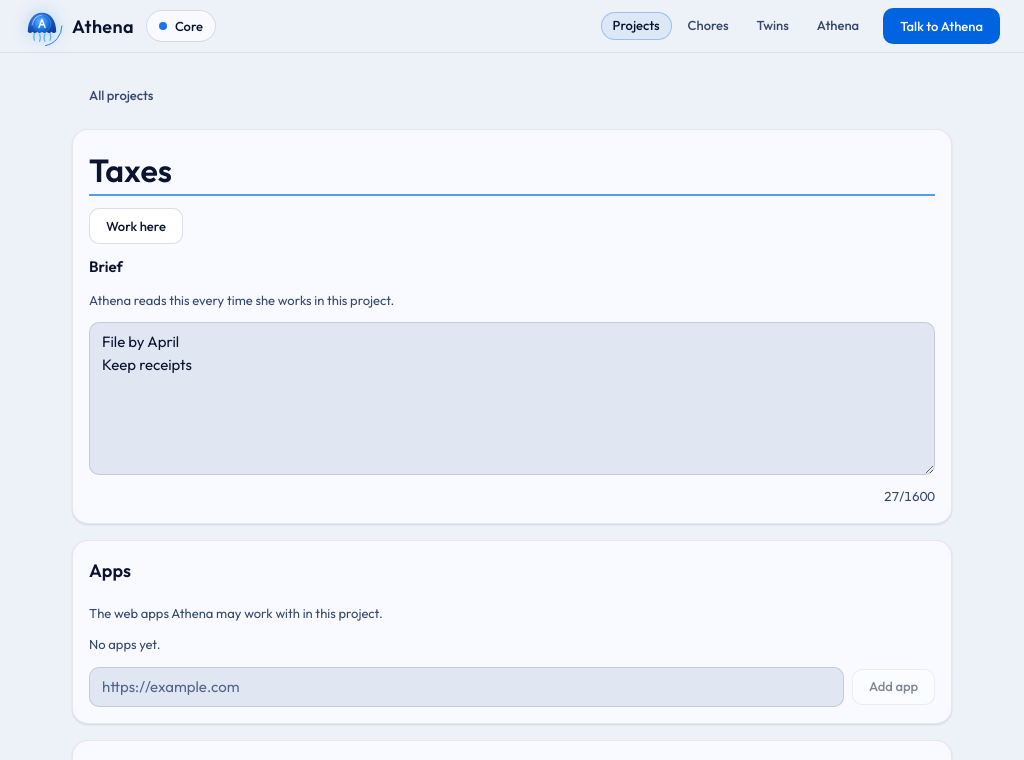
it: project level › adds and removes apps, and shows a refusal verbatim
Type "example.com" into the field named "App address" at (466, 687), box [89,666,844,707]
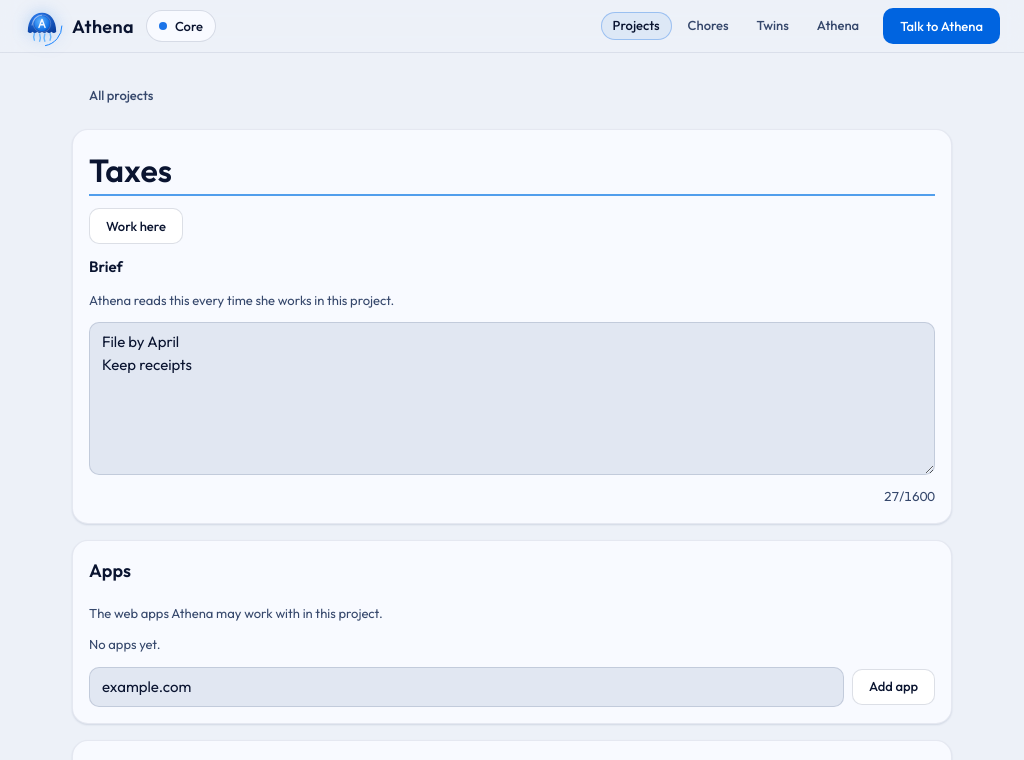
Click the button "Add app" at (893, 687), box [852,669,935,705]
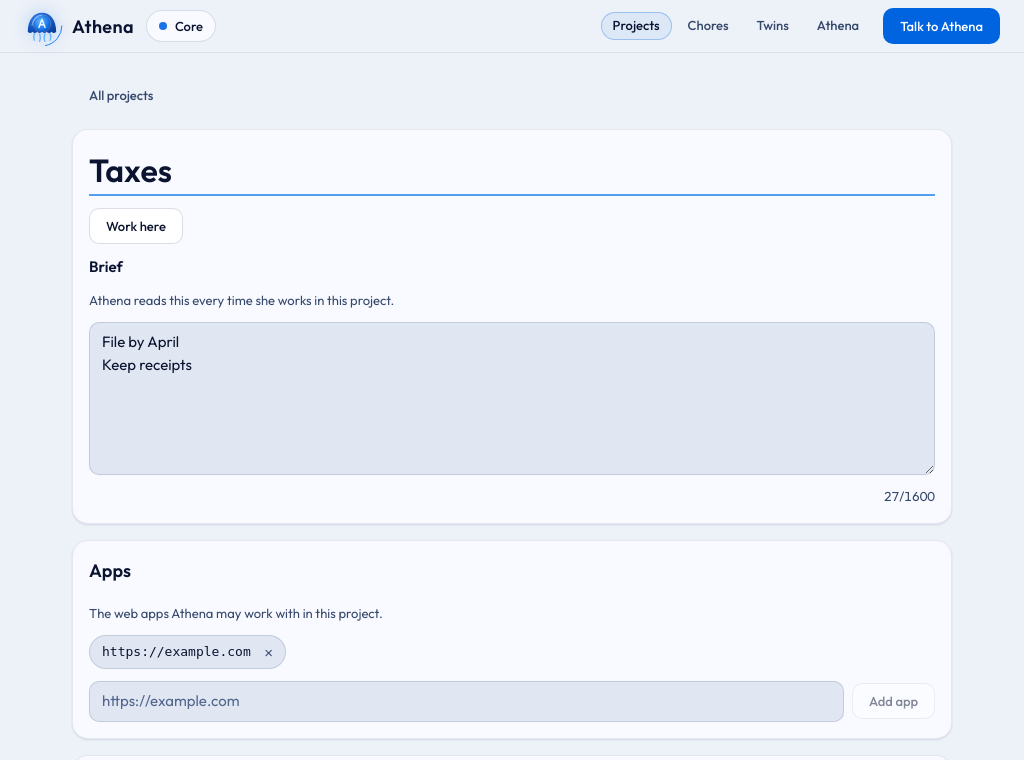
Expected: the text "https://example.com" is shown, [102,642,251,662]
Type "nope" into the field named "App address" at (466, 701), box [89,681,844,722]
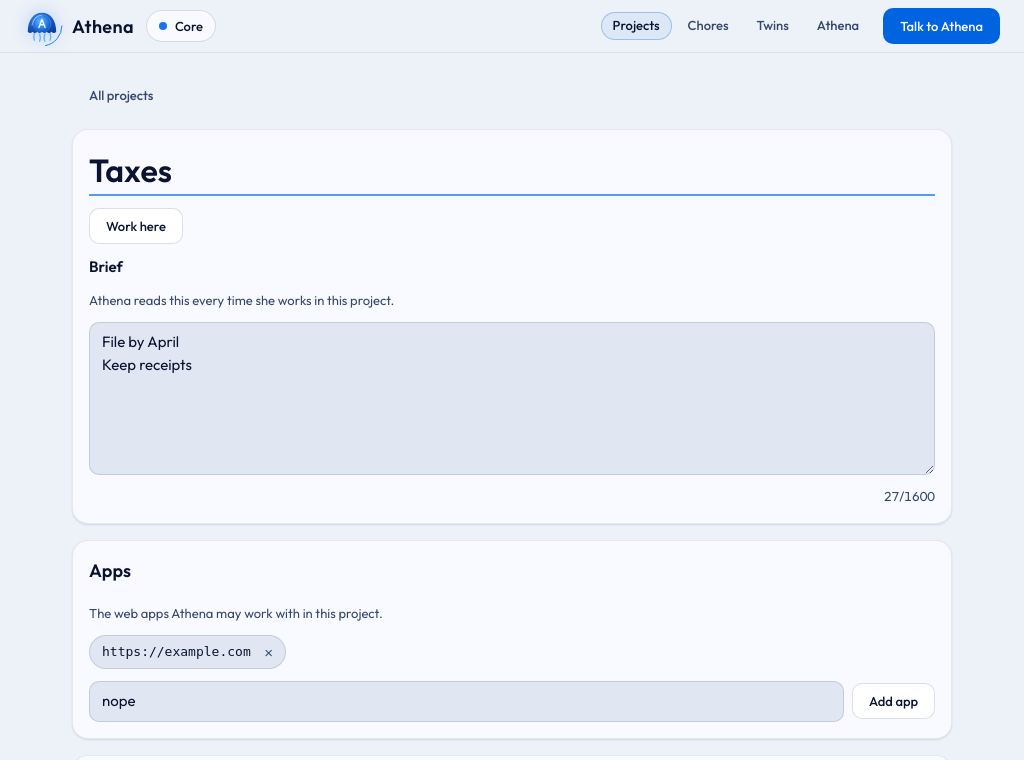
Click the button "Add app" at (893, 701), box [852,683,935,719]
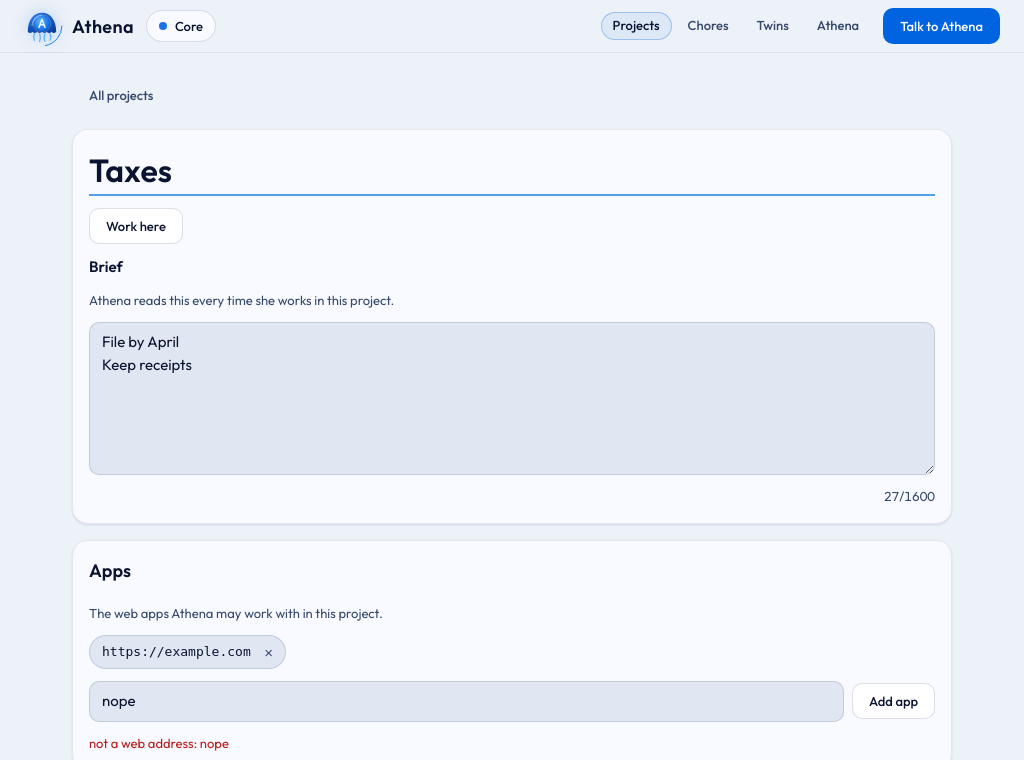
Expected: the text "not a web address: nope" is shown, [89,734,229,750]
Click the button named "Remove https://example.com" at (269, 652), box [255,638,283,666]
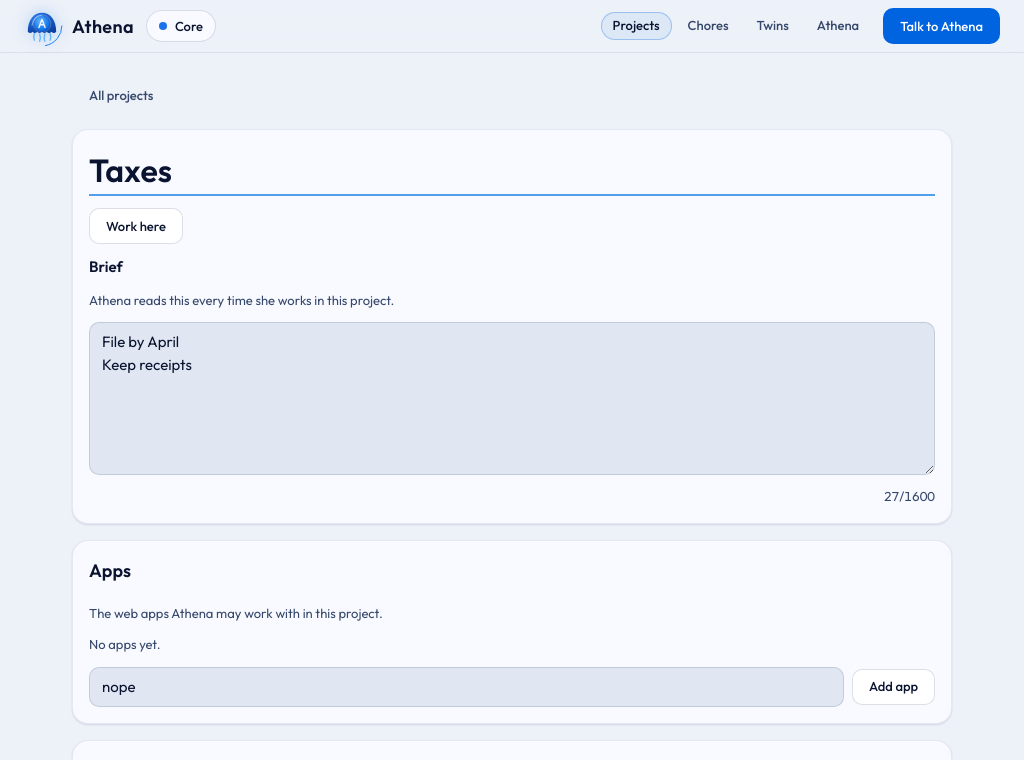
Expected: the text "https://example.com" is gone
